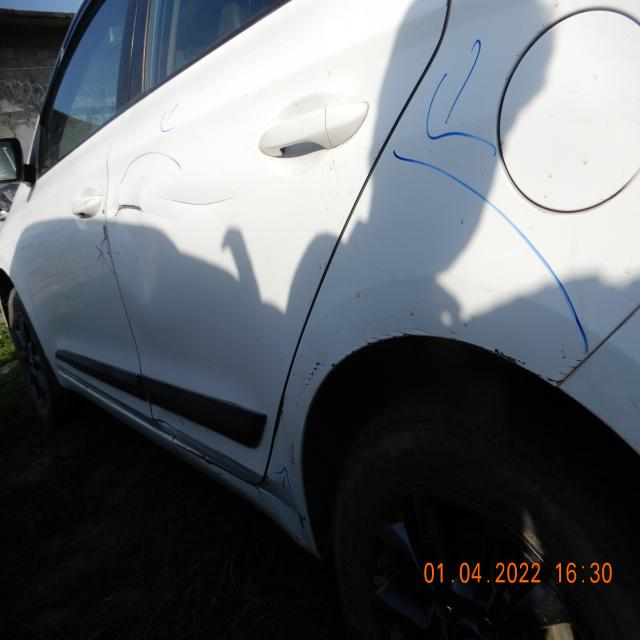damage: (320, 282, 582, 389), (153, 418, 258, 490), (281, 352, 326, 498), (108, 184, 237, 234), (97, 207, 107, 270), (294, 505, 308, 533), (113, 246, 122, 256)
